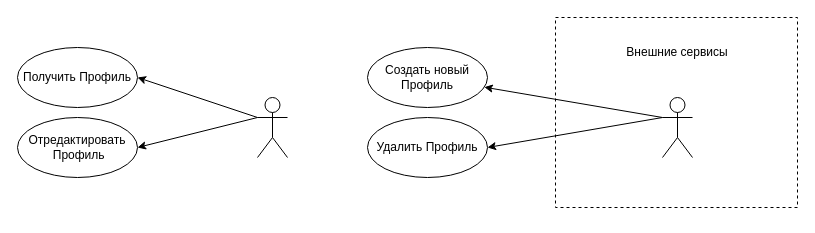
The diagram is 815 pixels wide and 233 high, and some of its shapes have lost their labels. The centre of each missing label's shape, as x and y in pixels:
Пользователь: the point at 272,127
Сервис Аутентификации и Авторизации: the point at 677,127
